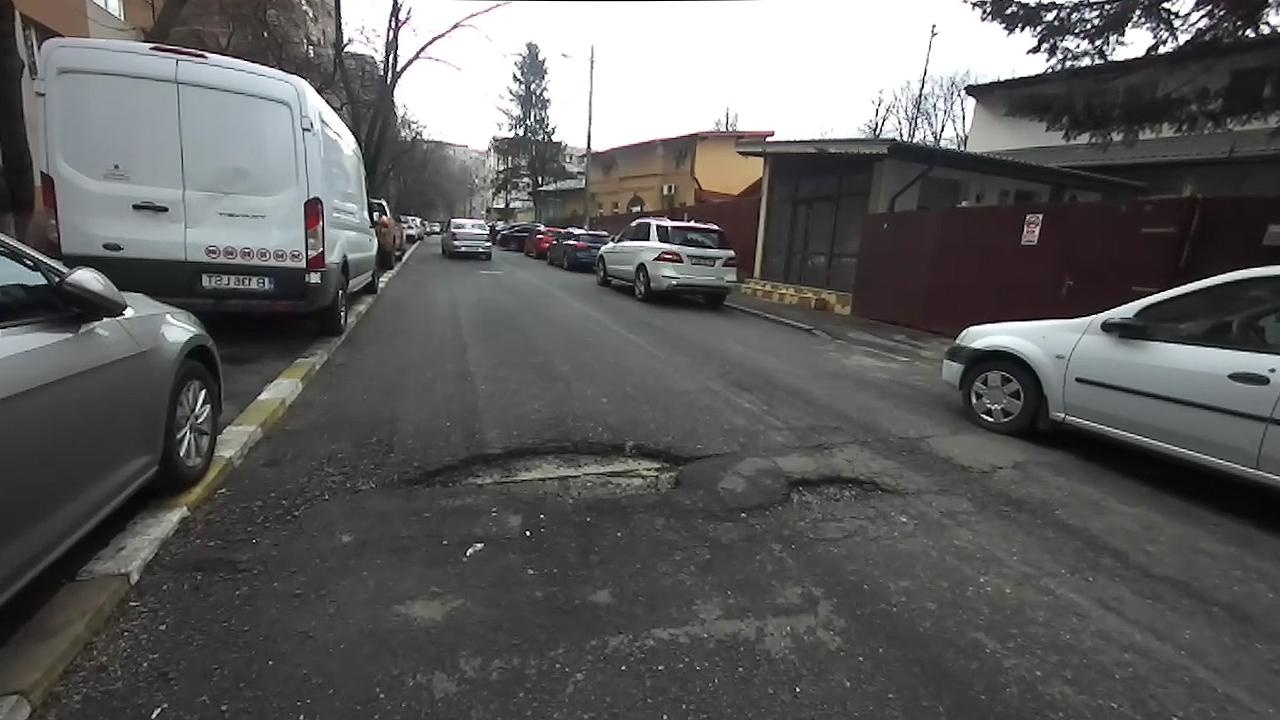pothole: (382, 429, 719, 506), (748, 469, 897, 513)
